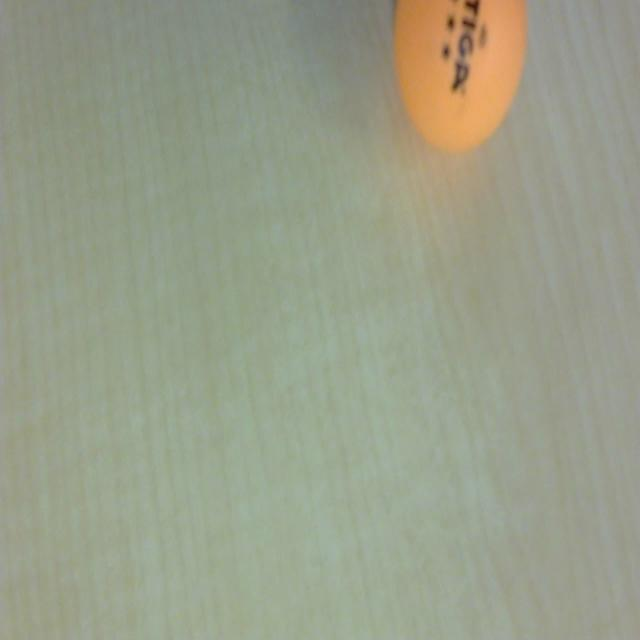ball: (392, 0, 526, 156)
